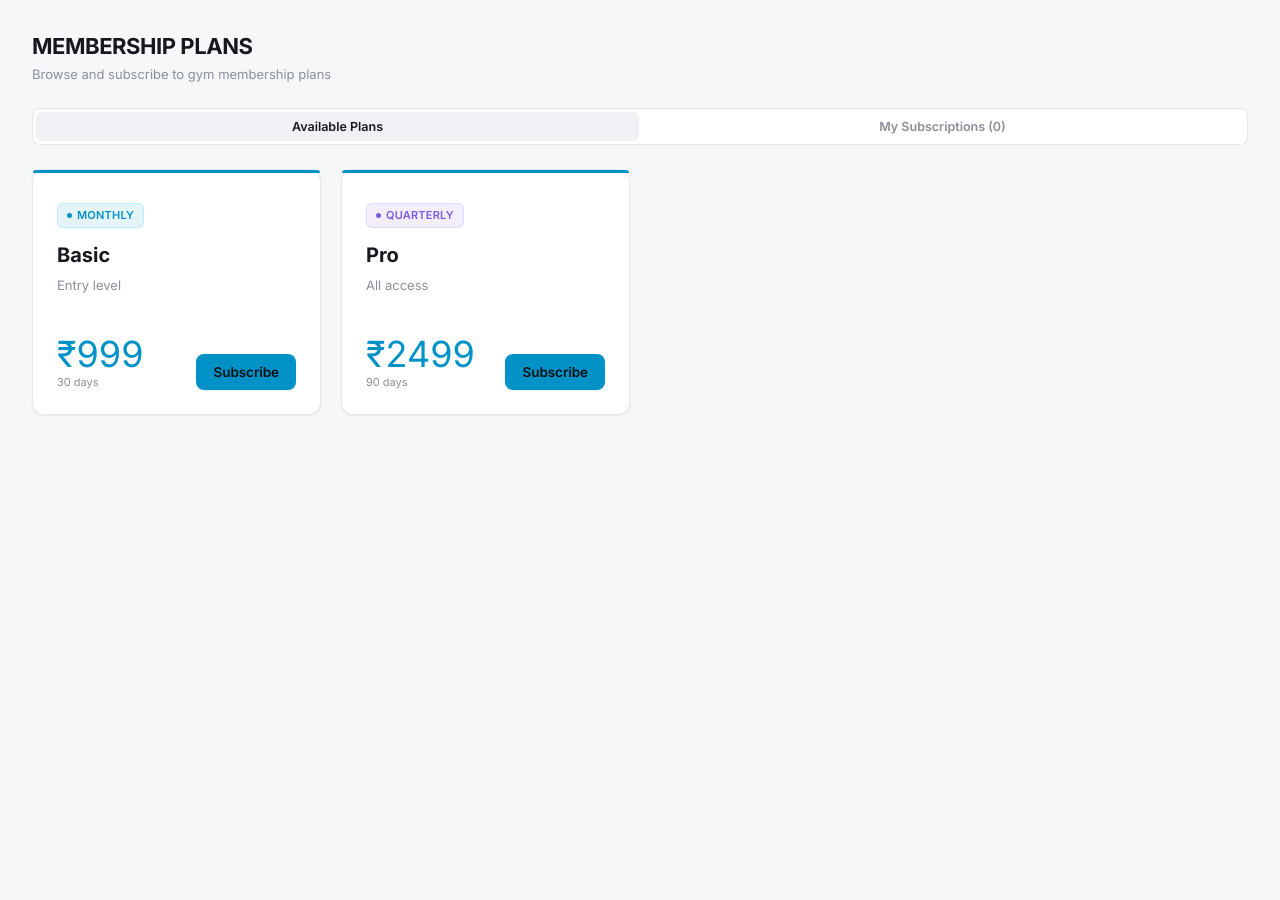
Test: MemberPlans — payment modal › Razorpay security notice visible for non-CASH
Click the button "Subscribe" next to "999" at (246, 372), box [196, 354, 296, 390]
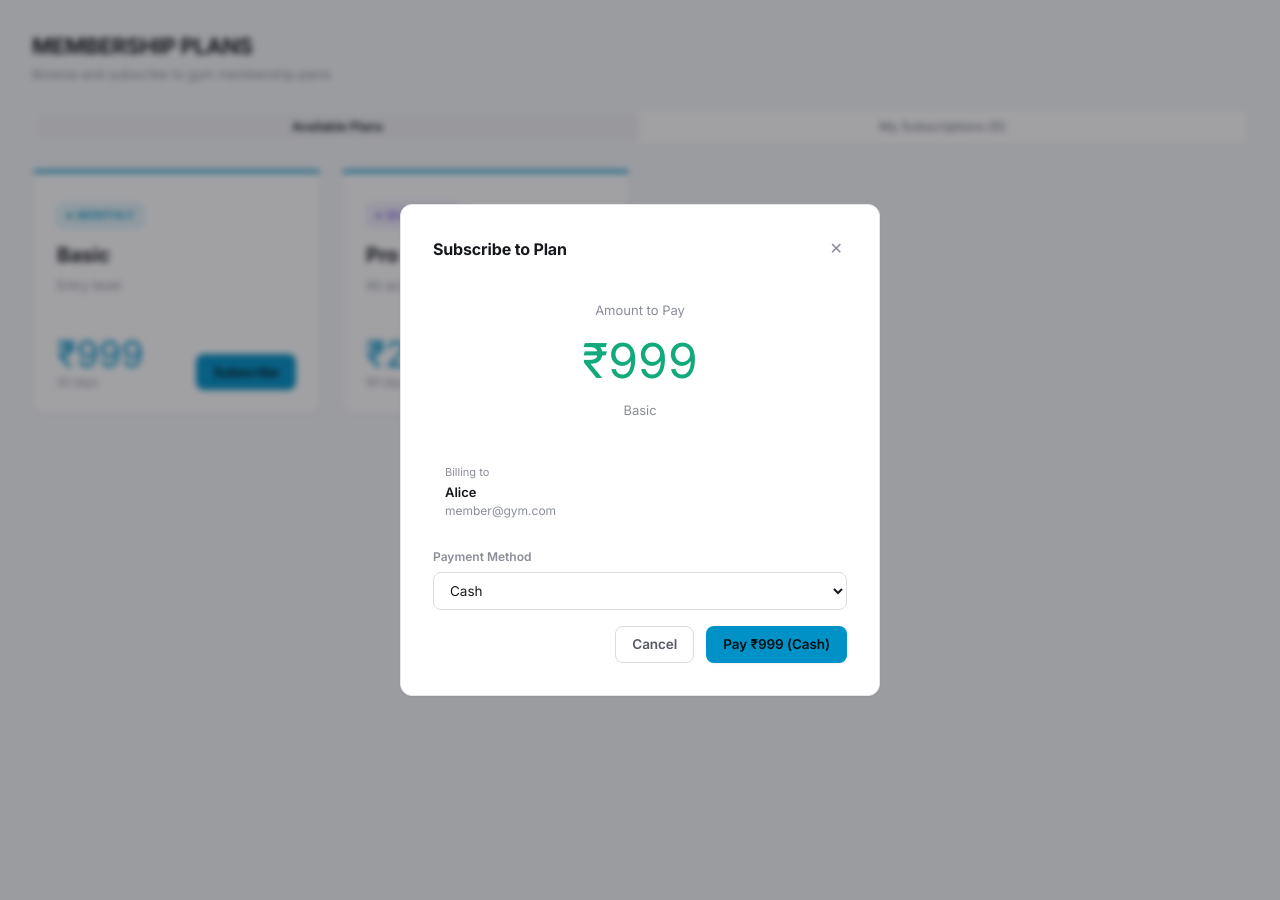
Now the text "Subscribe to Plan" is shown, box [433, 237, 567, 261]
Select "Credit Card (Razorpay)" in the dropdown at (640, 591), box [433, 572, 847, 610]
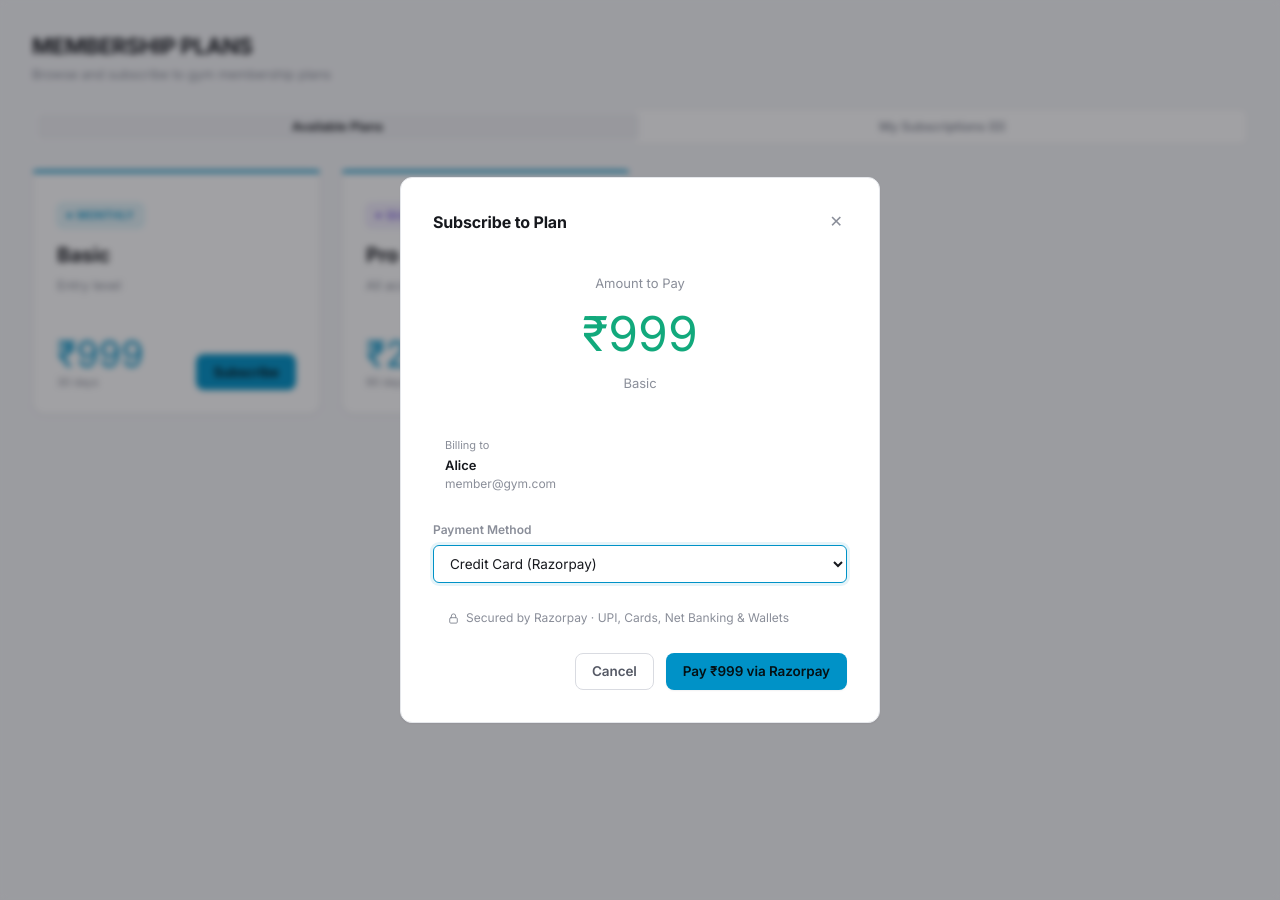
Now the text "Secured by Razorpay · UPI, Cards, Net Banking & Wallets" is shown, box [433, 599, 847, 637]
